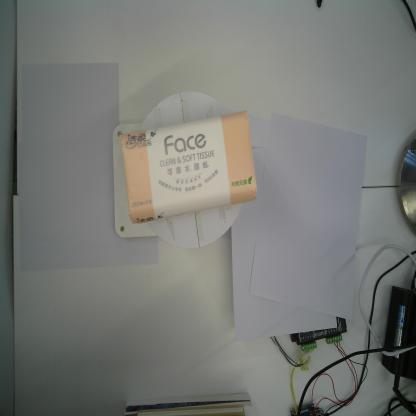Tissue: (121, 110, 258, 226)
